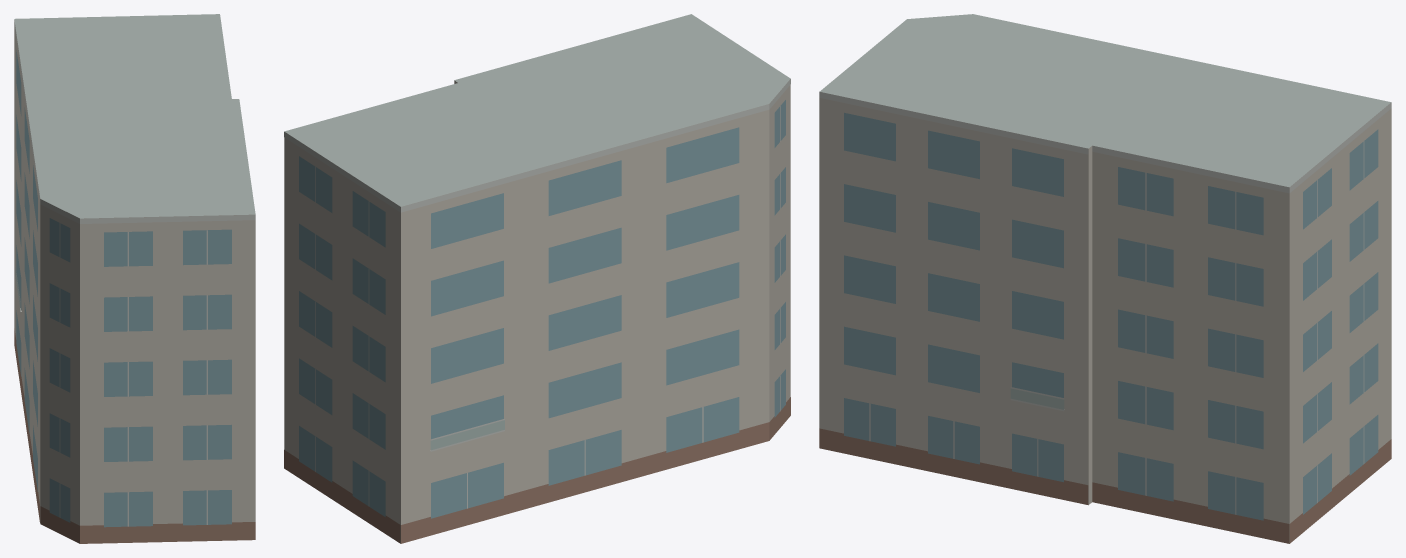
The model's file is survey-upis-32793466.glb.
3 views of the same model, side by side, from view 1: azimuth 30°, elevation 25°; view 2: azimuth 150°, elevation 25°; view 3: azimuth 270°, elevation 25° (orthographic). The views are drawn at different scales.
Visible parts, largest first — view 1: survey-upis-32793466.tmp; view 2: survey-upis-32793466.tmp; view 3: survey-upis-32793466.tmp.
Part boxes in pixels (x1,y1,x2,y2): survey-upis-32793466.tmp: (14, 14, 255, 543); survey-upis-32793466.tmp: (284, 14, 790, 543); survey-upis-32793466.tmp: (819, 14, 1391, 543).
Size of the model in its own units: 14.92 by 14.3 by 20.8.
